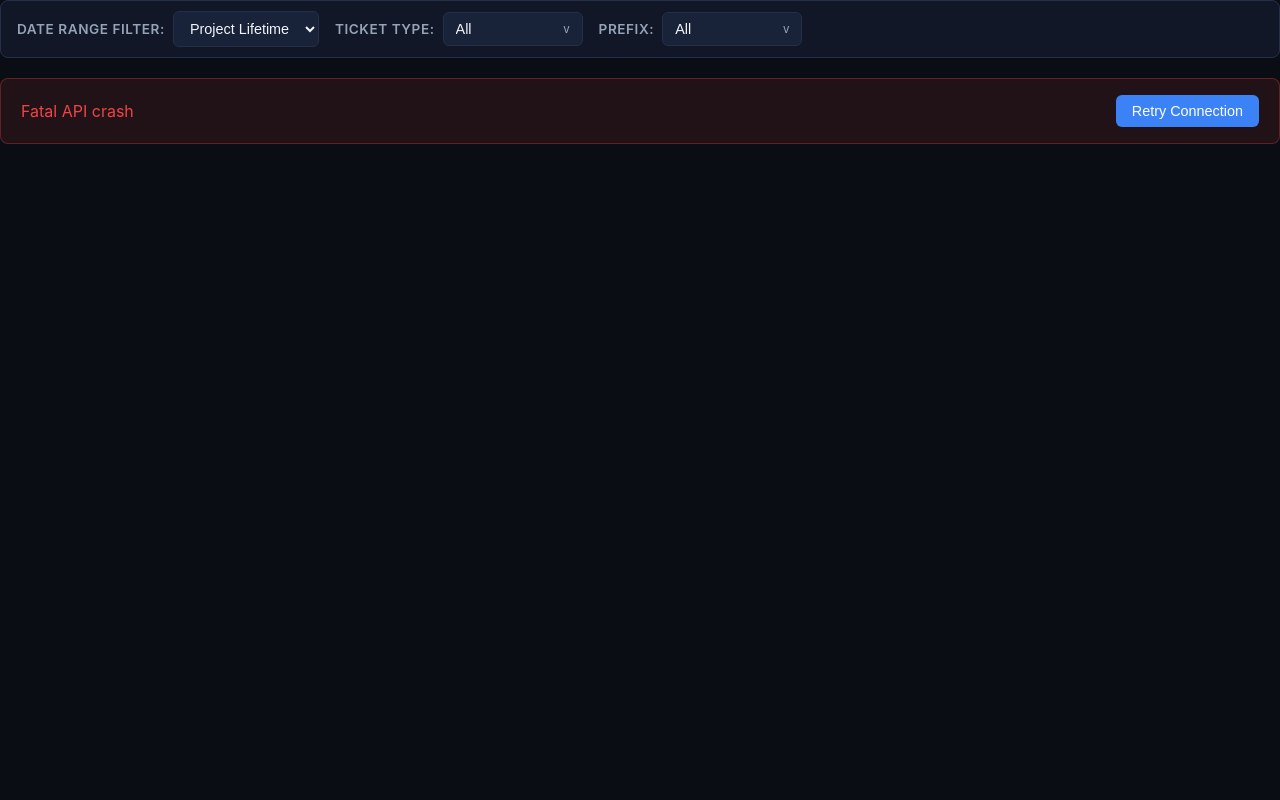
Test: FleetOverview View Component › Adversarial & Boundary Scenarios › displays error banner and allows retry when fetch throws unexpected error
Expected: the text "Fatal API crash" is shown, [21,99,134,123]
Click the button "Retry Connection" at (1187, 111), box [1116,95,1259,127]
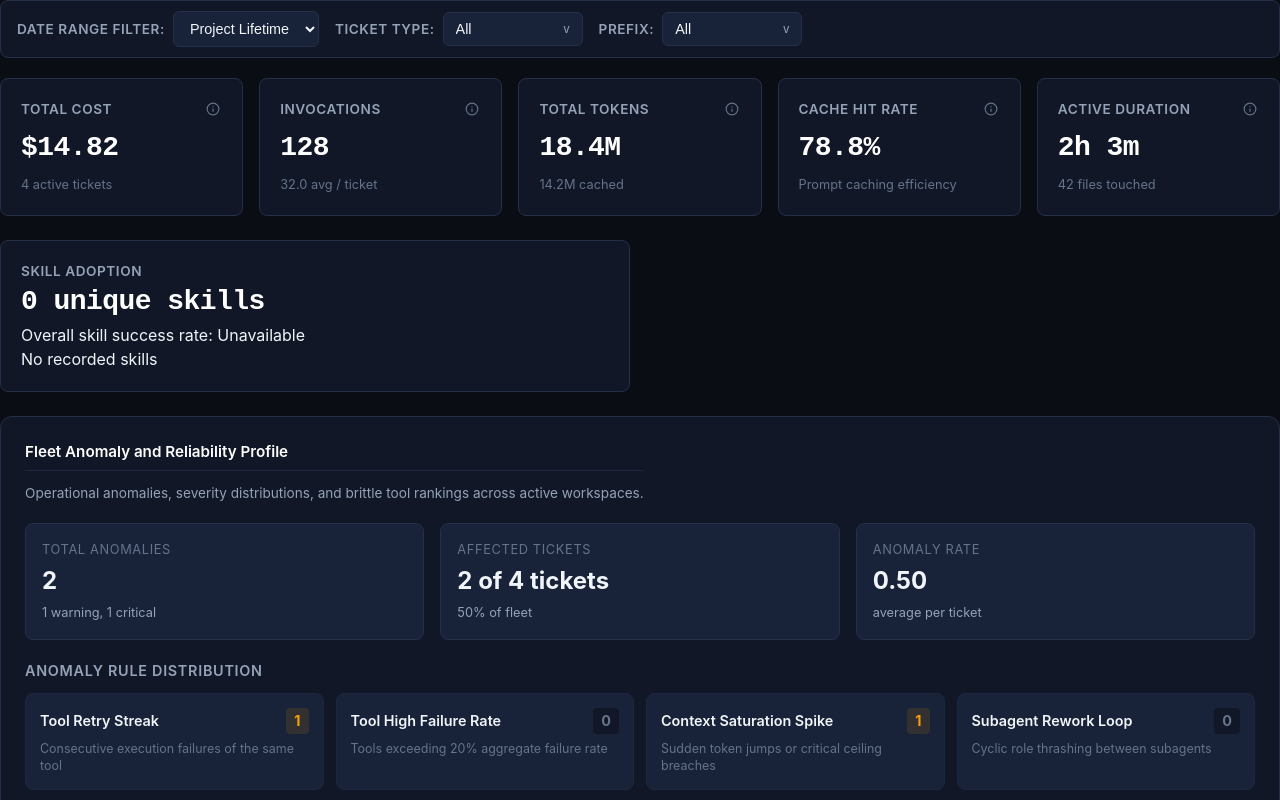
Expected: the text "Total Cost" is shown, [21,99,112,119]
